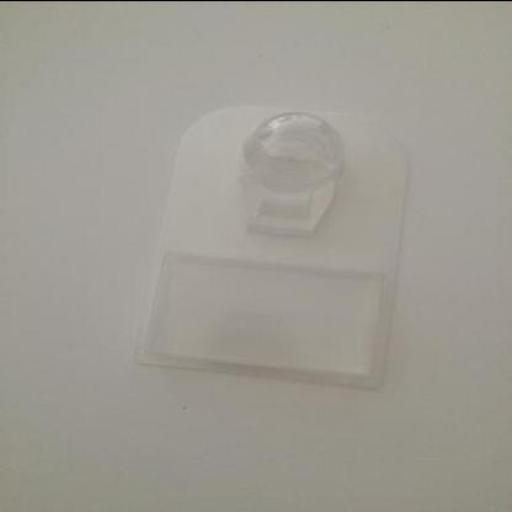plastic: (135, 101, 410, 386)
